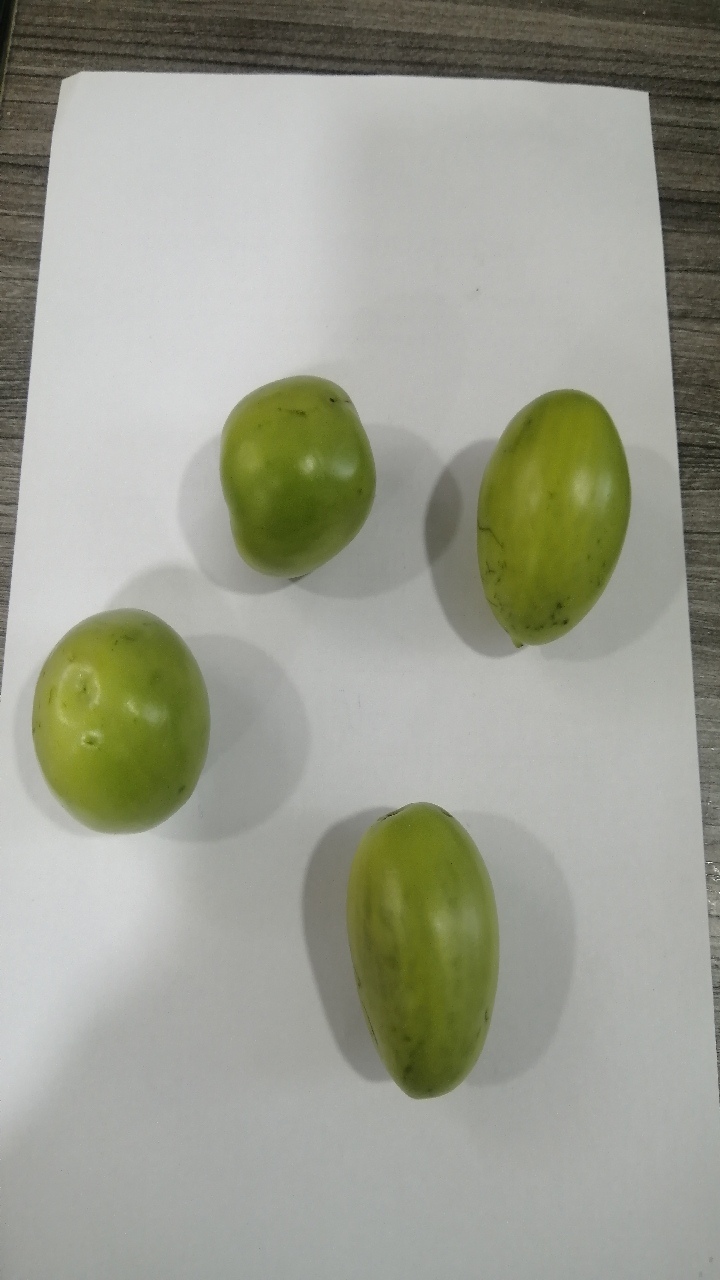tomateVerde: (315, 779, 560, 1114), (446, 374, 661, 669), (180, 352, 406, 614), (18, 597, 237, 849)
